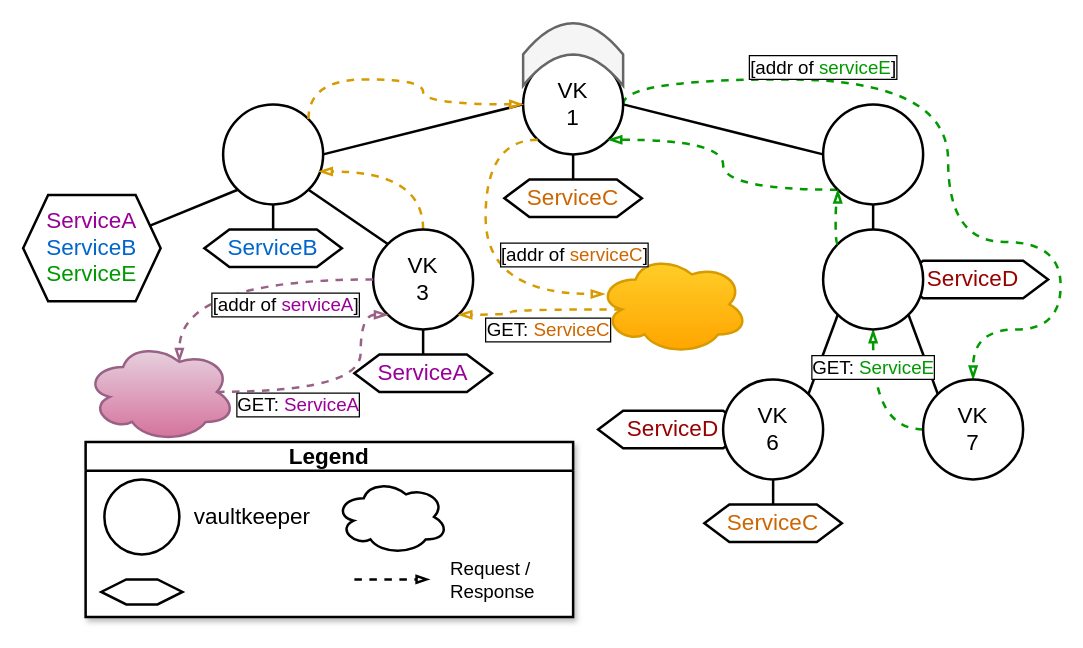
Some shapes in this 1083 by 648 pixel diagram are drawn without their labels. Here are the shapes that lost their labels. From the top down, the centre of each, then its label:
At [572,53]: "Root".
At [272,153]: "VK 2".
At [872,153]: "VK 4".
At [872,279]: "VK 5".
At [391,516]: "client".
At [141,591]: "leaf".
